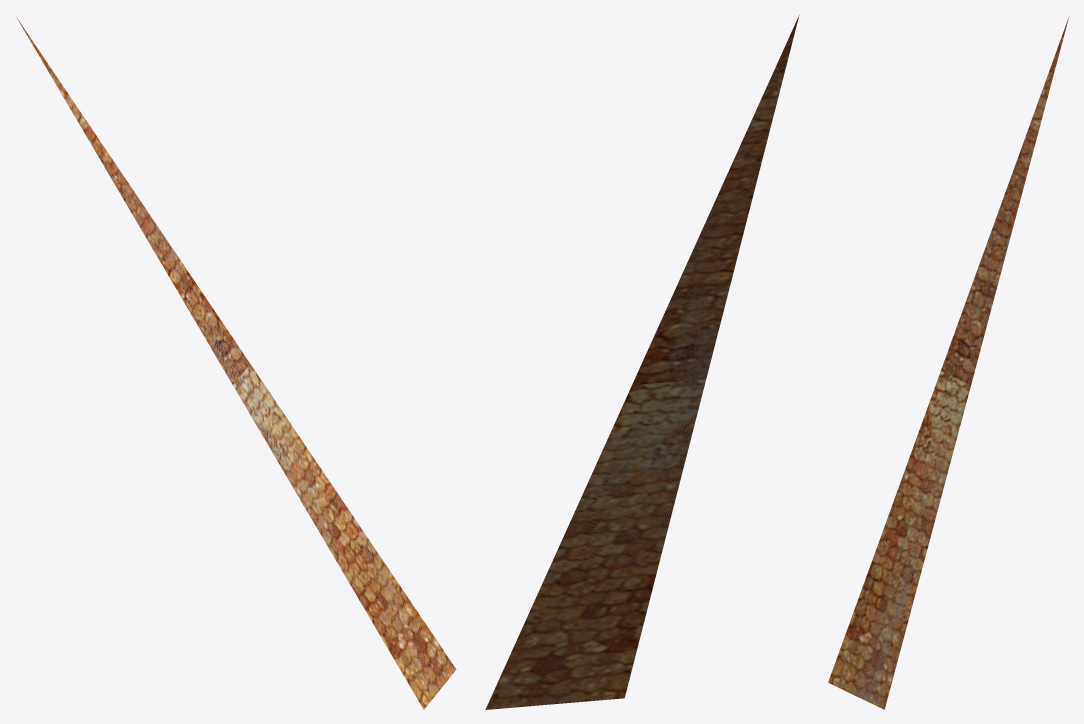
The model's file is 西庸城堡197.dae.
The picture shows the model from 3 angles, left to right: view 1: azimuth 30°, elevation 25°; view 2: azimuth 150°, elevation 25°; view 3: azimuth 270°, elevation 25°; orthographic projection. The views are drawn at different scales.
Parts seen in each view (by area): view 1: SketchUp; view 2: SketchUp; view 3: SketchUp.
Boxes of the visible parts, left/top/right/bottom form: SketchUp: left=16, top=17, right=456, bottom=709; SketchUp: left=485, top=15, right=799, bottom=709; SketchUp: left=828, top=16, right=1069, bottom=709.
Size of the model in its own units: 146 by 108 by 276.
